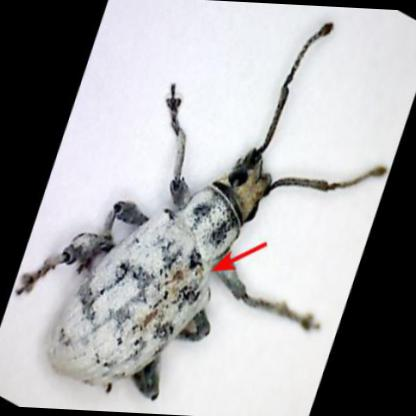ash weevil: (9, 25, 384, 400)
